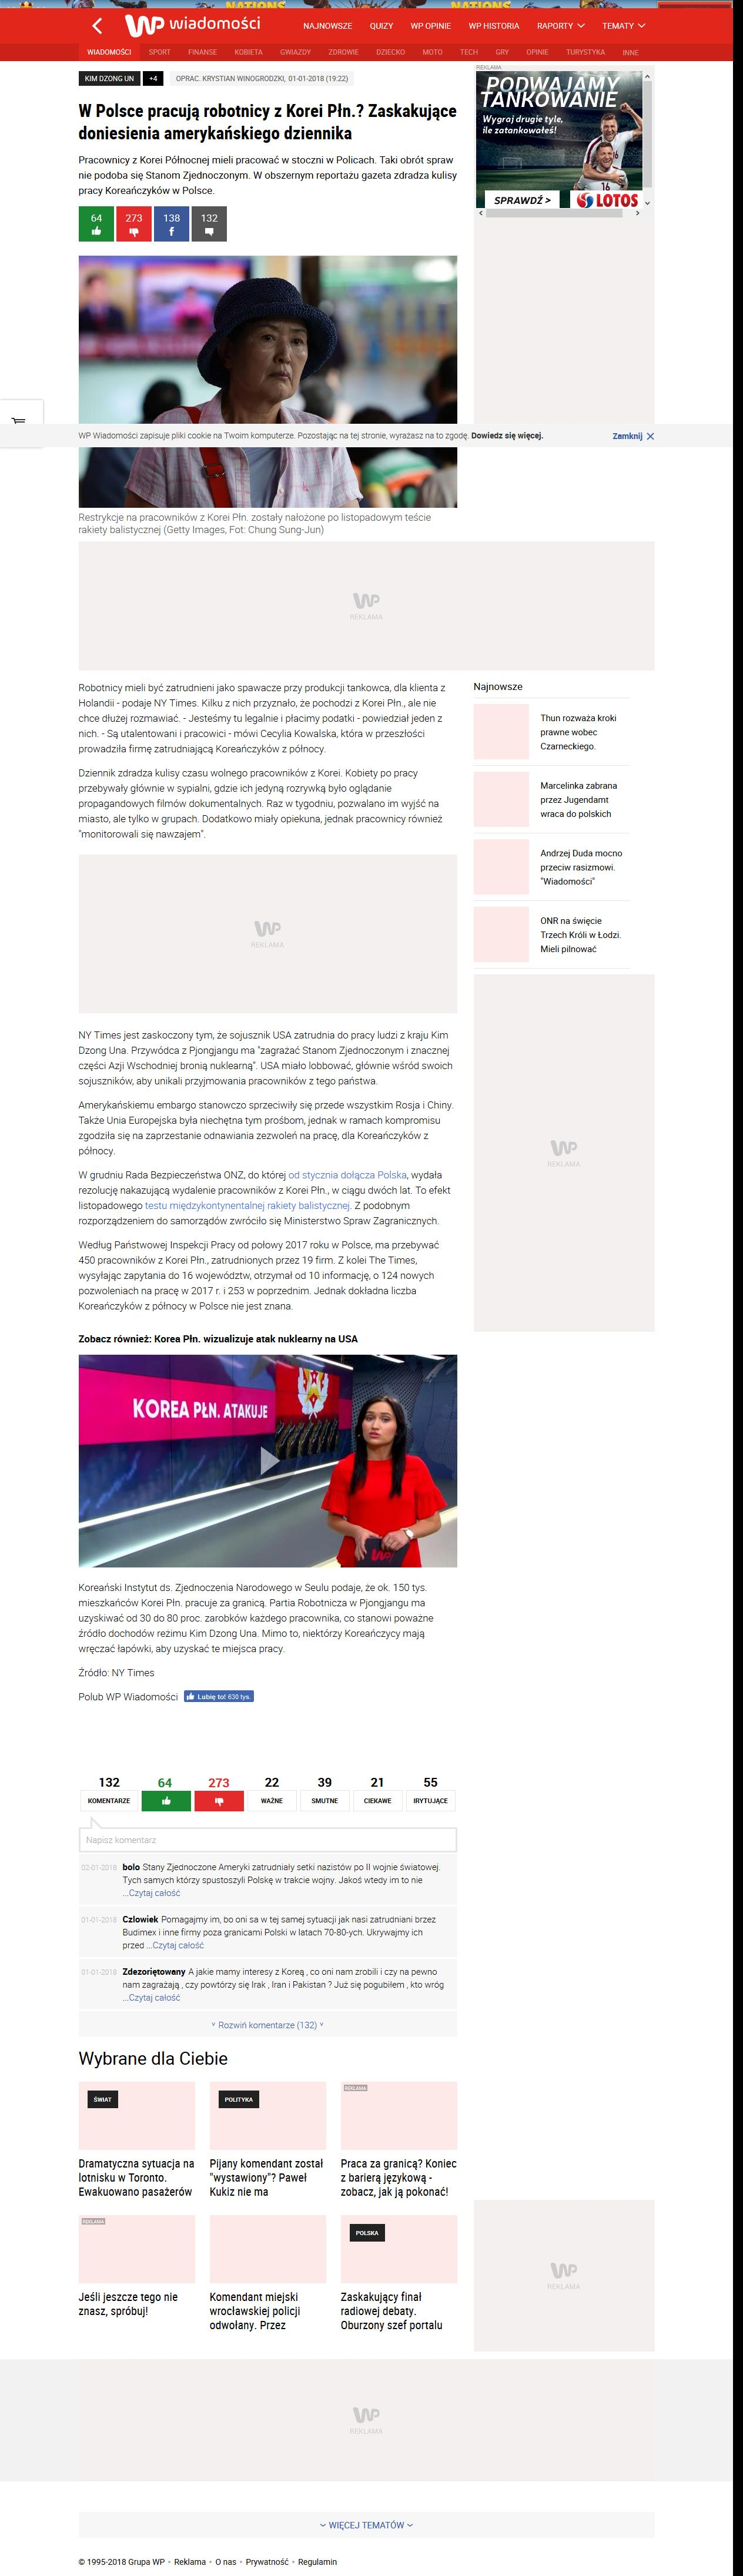title: (79, 103, 457, 141)
